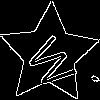W: (24, 29, 85, 94)
